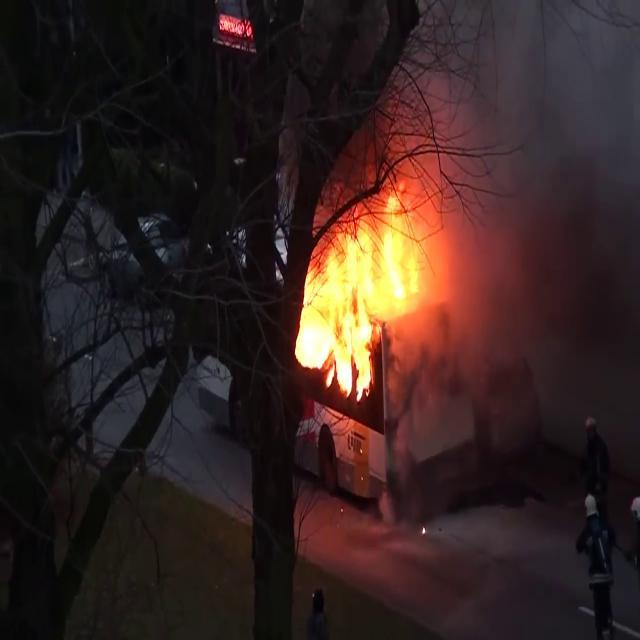Fire: (290, 189, 445, 413)
Smoke: (415, 1, 640, 481)
